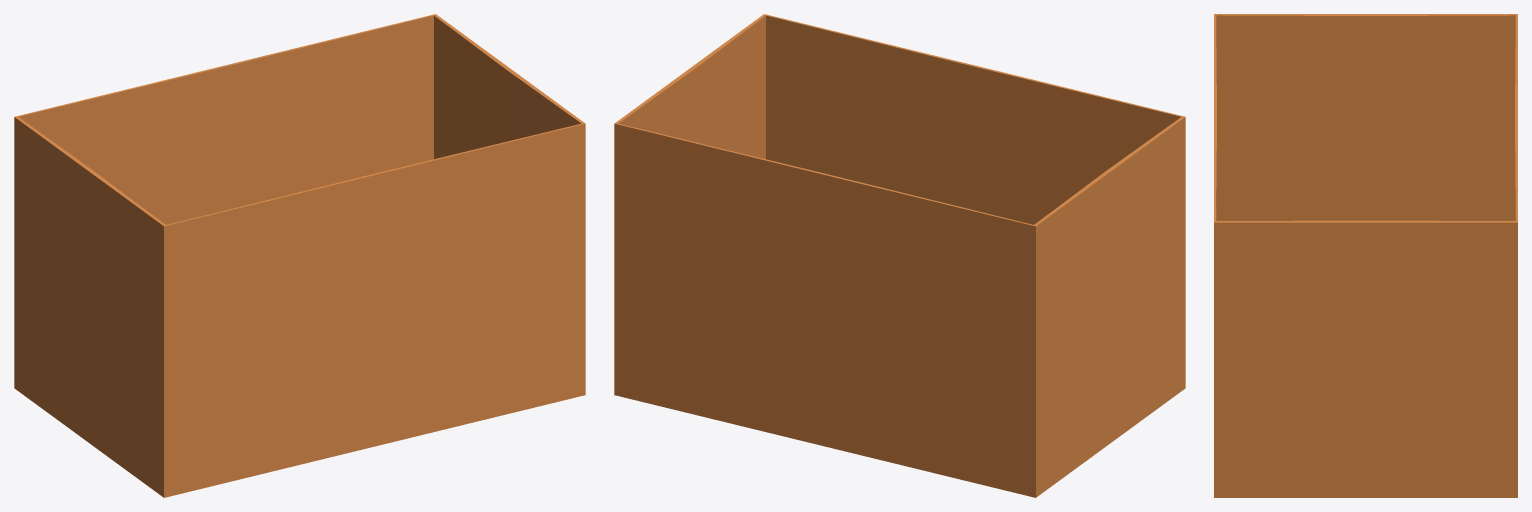
The model's file is item1.fbx.
The picture shows the model from 3 angles, left to right: view 1: azimuth 30°, elevation 25°; view 2: azimuth 150°, elevation 25°; view 3: azimuth 270°, elevation 25°; orthographic projection.
Visible parts, largest first — view 1: Cube; view 2: Cube; view 3: Cube.
Boxes of the visible parts, left/top/right/bottom form: Cube: left=14, top=14, right=585, bottom=497; Cube: left=614, top=14, right=1185, bottom=497; Cube: left=1214, top=14, right=1517, bottom=497.
Bounding box in the file's own units: 442 × 272 × 272.
